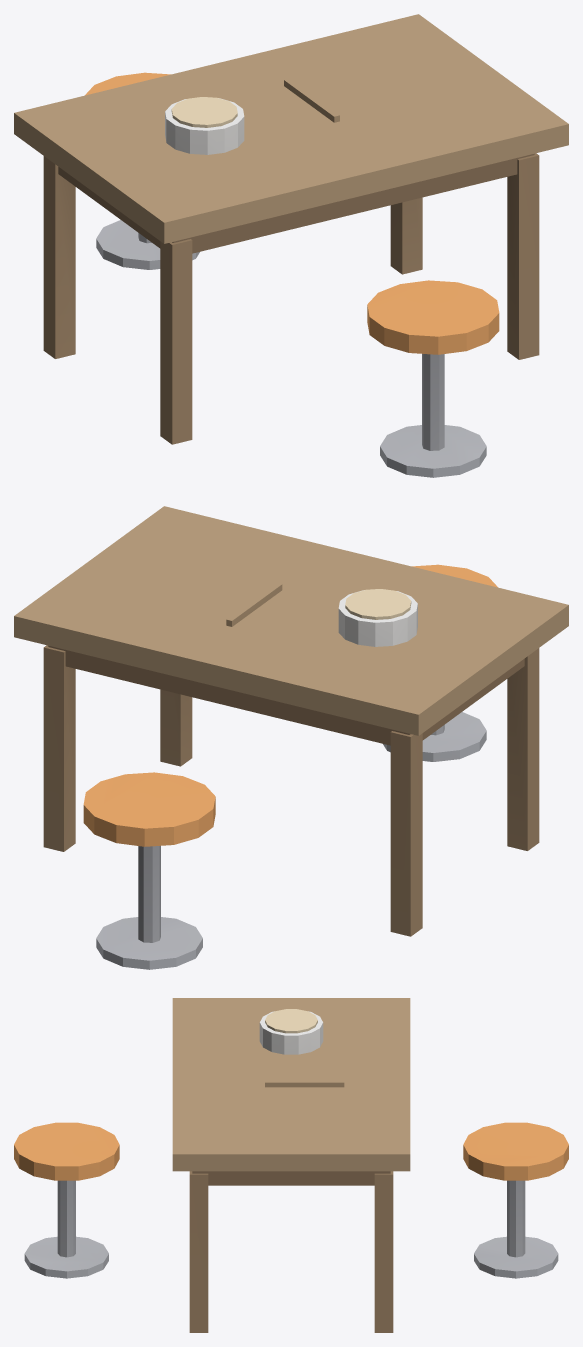
Rendered from VDiningTable.fbx.
3 views of the same model, one above another, from view 1: azimuth 30°, elevation 25°; view 2: azimuth 150°, elevation 25°; view 3: azimuth 270°, elevation 25° (orthographic). The views are drawn at different scales.
Parts seen in each view (by area): view 1: VDiningTable; view 2: VDiningTable; view 3: VDiningTable.
Boxes of the visible parts, x1,y1,x2,y2 form: VDiningTable: [14, 14, 568, 477]; VDiningTable: [14, 506, 568, 969]; VDiningTable: [14, 998, 568, 1332].
Size of the model in its own units: 1.4 by 0.87 by 2.1.
